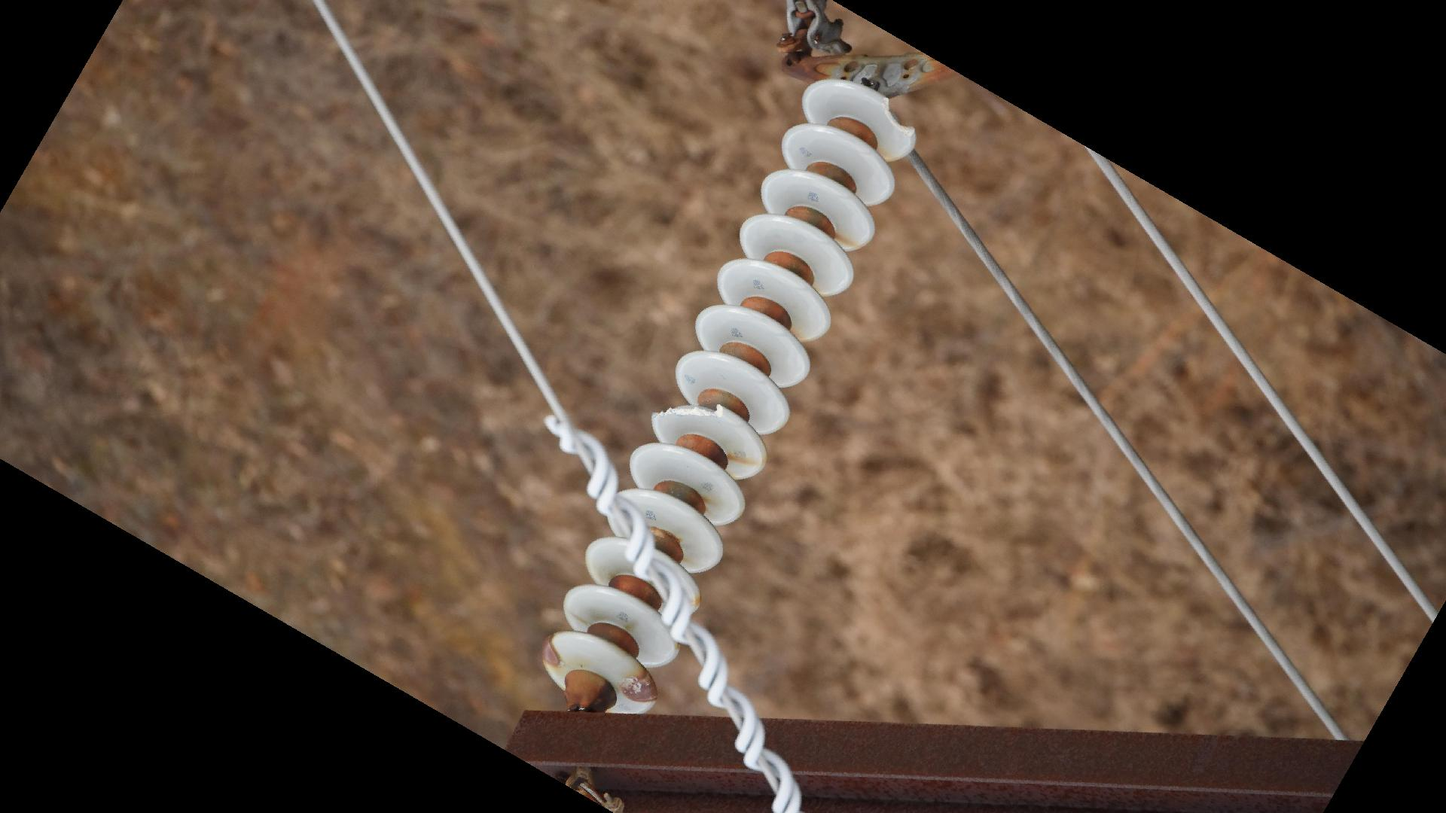insulator: (535, 79, 929, 728)
insulator_breakage: (874, 91, 922, 143), (644, 397, 733, 425)
